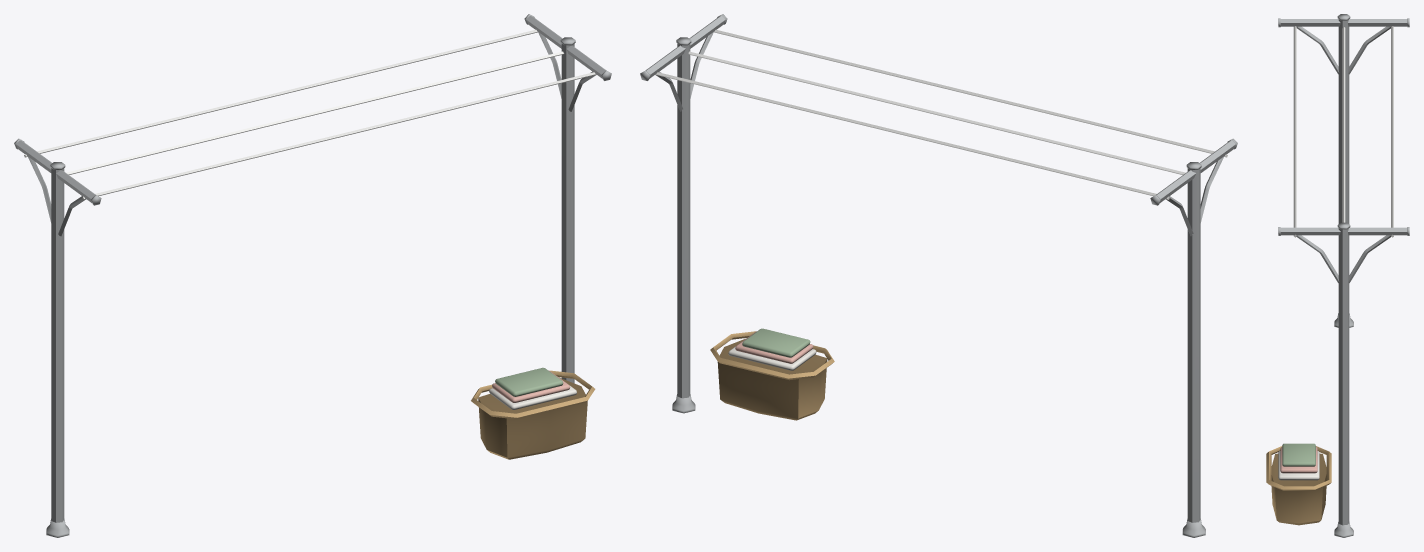
The model's file is clothesline.far.glb.
3 renders of one model, left to right at view 1: azimuth 30°, elevation 25°; view 2: azimuth 150°, elevation 25°; view 3: azimuth 270°, elevation 25°, orthographic. The views are drawn at different scales.
Parts seen in each view (by area): view 1: clothesline; view 2: clothesline; view 3: clothesline.
Boxes of the visible parts, box(x1,y1,x2,y2) form: clothesline: box(14, 14, 611, 537); clothesline: box(640, 14, 1237, 537); clothesline: box(1266, 14, 1409, 537).
Bounding box in the file's own units: 2.76 × 1.82 × 0.7658.
